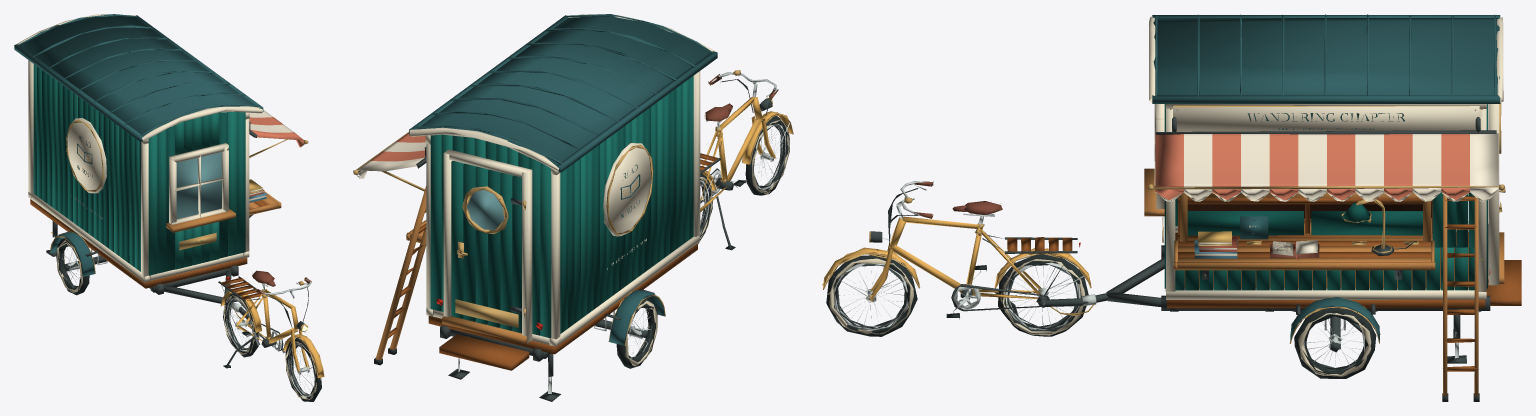
The model's file is flower-cart.glb.
3 renders of one model, left to right at view 1: azimuth 30°, elevation 25°; view 2: azimuth 150°, elevation 25°; view 3: azimuth 270°, elevation 25°, orthographic. The views are drawn at different scales.
Visible parts, largest first — view 1: flower-cart; view 2: flower-cart; view 3: flower-cart.
Boxes of the visible parts, x1,y1,x2,y2 form: flower-cart: (14, 14, 324, 401); flower-cart: (353, 14, 793, 401); flower-cart: (822, 14, 1521, 401).
Bounding box in the file's own units: 1.87 × 2.2 × 4.67.
32 materials, 6 textured.
